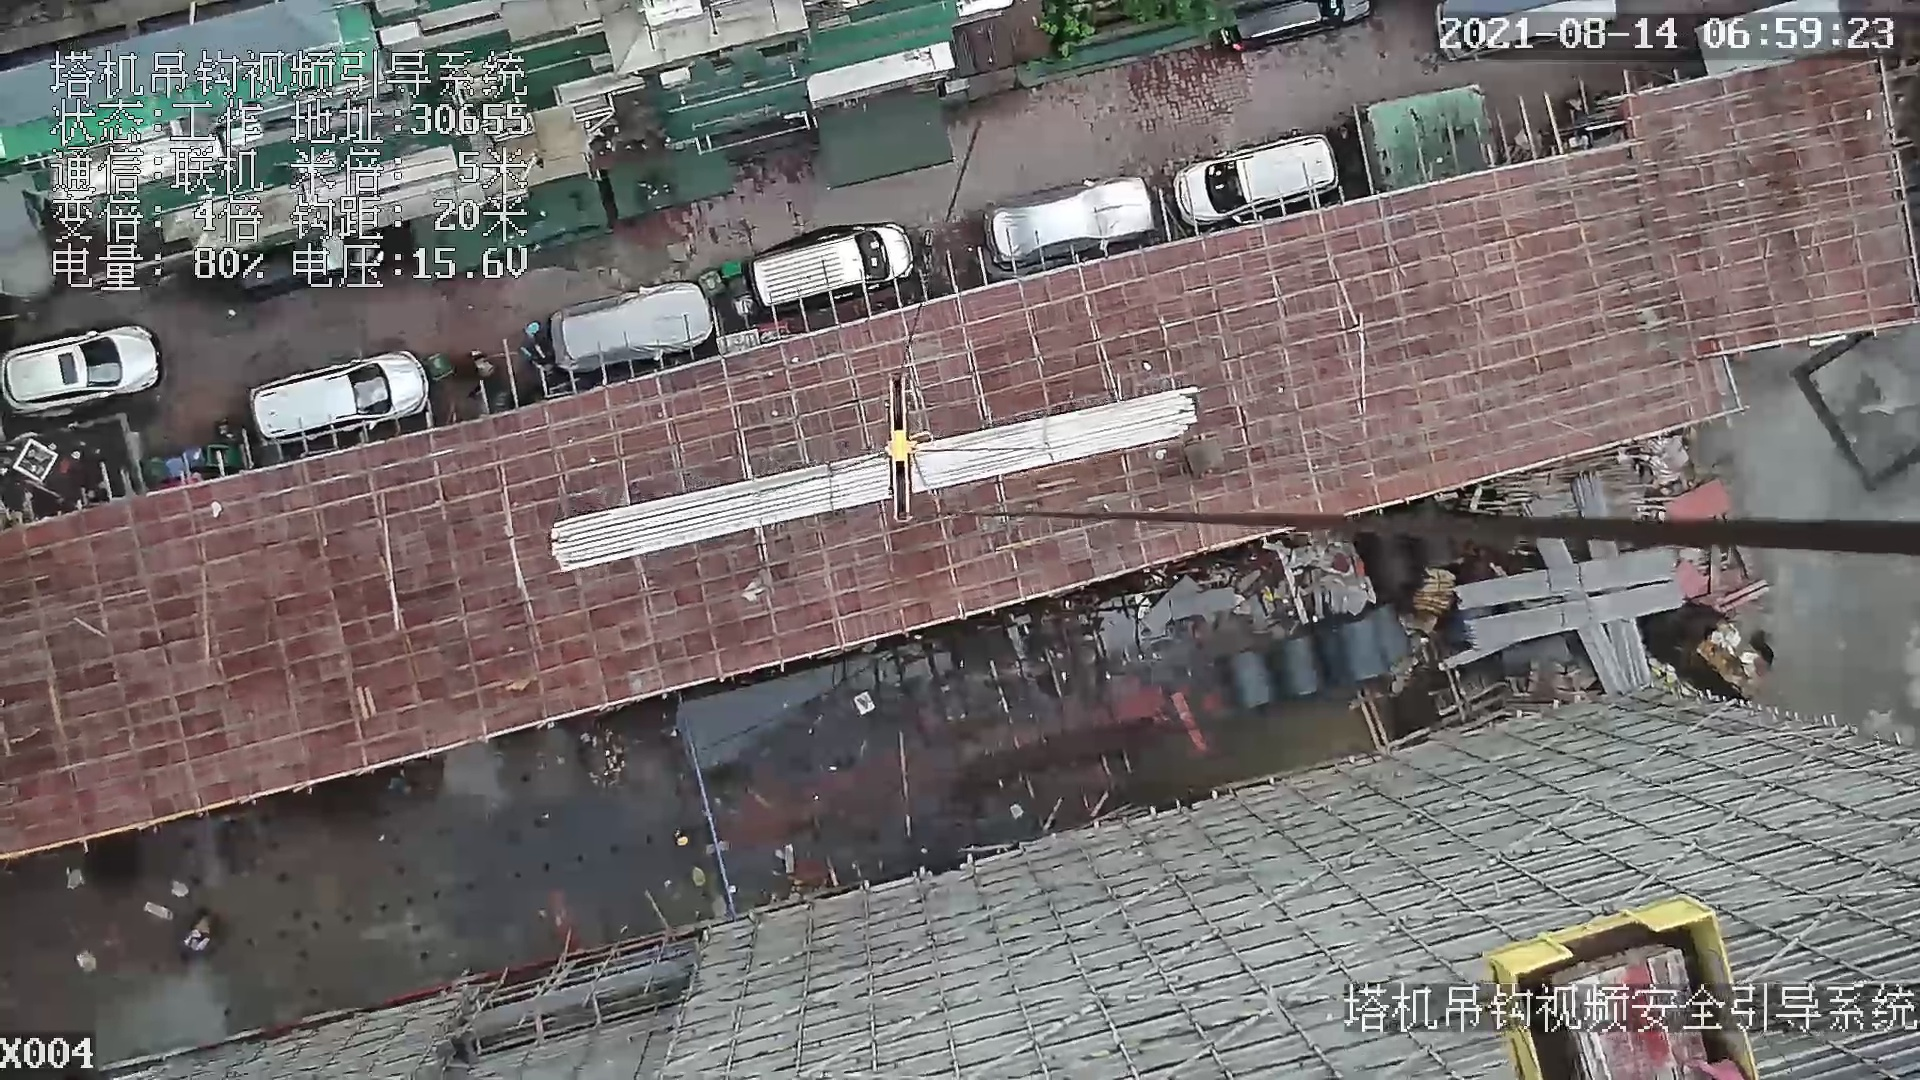hook: (874, 376, 936, 526)
rebar: (550, 389, 1203, 572), (1469, 582, 1681, 651), (1457, 546, 1679, 611), (1539, 539, 1629, 691), (1592, 539, 1651, 688)
wood: (1411, 568, 1455, 615)
